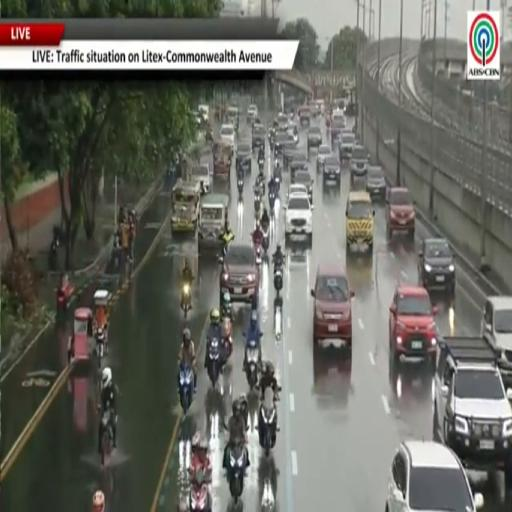car: (433, 336, 511, 488), (385, 441, 483, 511), (389, 283, 438, 367), (311, 263, 353, 351), (313, 348, 351, 409), (220, 244, 259, 302), (418, 238, 455, 296), (481, 296, 511, 362), (346, 191, 374, 254), (386, 187, 415, 239), (285, 196, 312, 245), (366, 165, 386, 201), (292, 169, 313, 203), (349, 146, 369, 181), (322, 154, 340, 186), (289, 151, 308, 181), (192, 164, 210, 194), (339, 131, 355, 162), (236, 141, 252, 172), (282, 139, 297, 170), (316, 144, 331, 172), (220, 124, 235, 150), (307, 126, 322, 152), (252, 123, 266, 150), (273, 132, 289, 155), (331, 120, 344, 147), (287, 184, 307, 200), (333, 109, 345, 130), (288, 123, 299, 145), (299, 106, 311, 125), (277, 112, 288, 130), (198, 105, 209, 122), (247, 105, 258, 122)
jeepney: (198, 194, 229, 252), (171, 179, 200, 233), (213, 140, 232, 179), (191, 163, 211, 193), (227, 106, 239, 132)
motorcycle: (227, 441, 247, 504), (258, 390, 277, 456), (179, 363, 193, 414), (246, 340, 260, 389), (207, 339, 221, 387), (101, 411, 113, 466), (190, 484, 211, 511), (222, 316, 232, 359), (96, 328, 106, 368), (180, 283, 191, 318), (274, 297, 282, 340), (49, 238, 59, 271), (274, 265, 282, 296), (220, 243, 230, 263), (262, 226, 269, 254), (254, 194, 261, 218), (255, 245, 262, 265), (269, 190, 275, 211), (237, 179, 244, 196), (270, 196, 275, 217), (258, 159, 264, 172)
